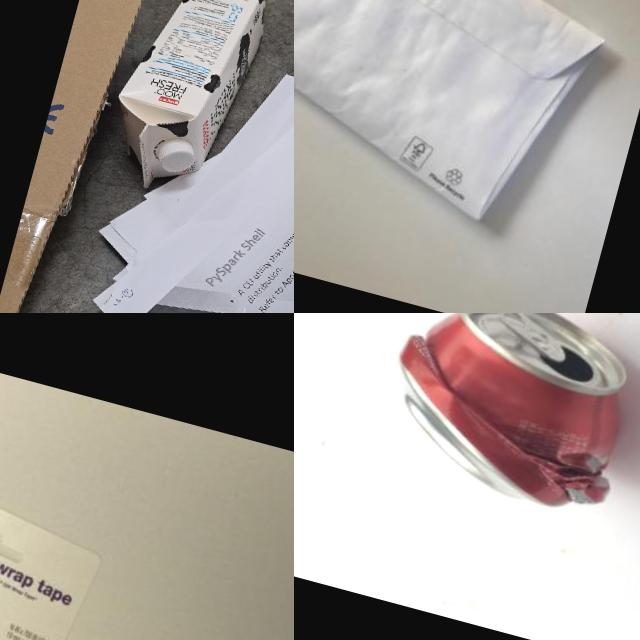aba de lata: (487, 313, 576, 364)
caixinha: (97, 0, 277, 208)
lata: (372, 313, 640, 521)
papel: (294, 0, 640, 243), (47, 5, 294, 313), (0, 478, 111, 640)
papelão: (0, 0, 151, 313)
tampa plástica: (153, 134, 200, 178)
